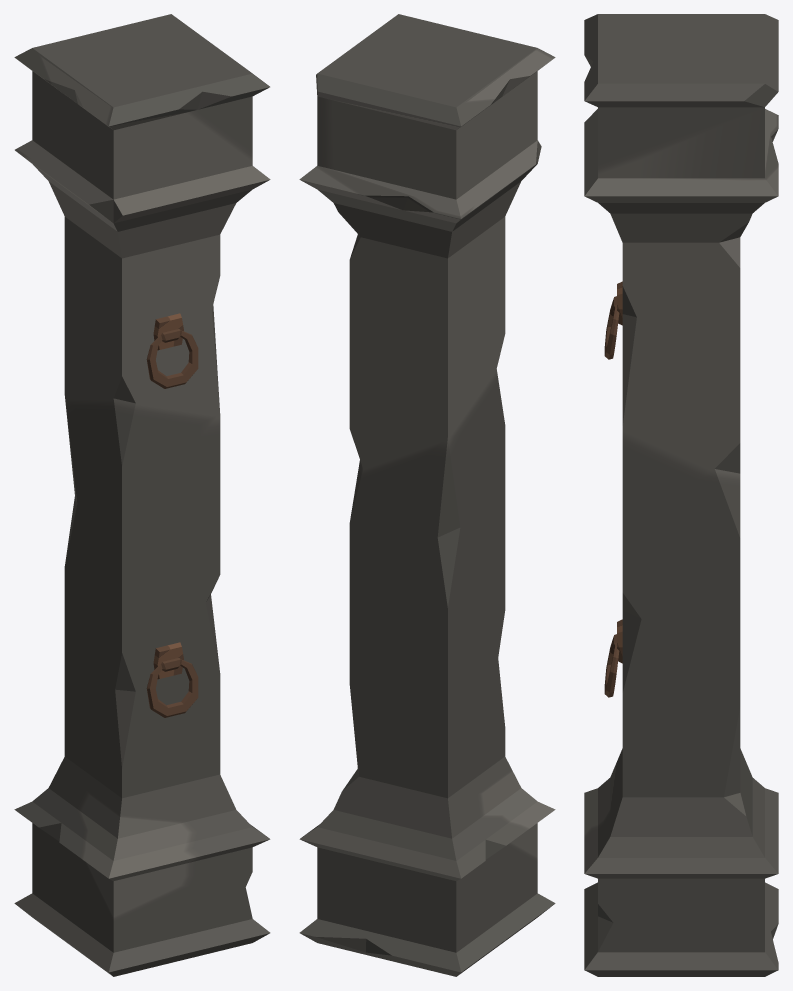
The model's file is SM_Bld_Prison_Pillar_01.fbx.
The picture shows the model from 3 angles, left to right: view 1: azimuth 30°, elevation 25°; view 2: azimuth 150°, elevation 25°; view 3: azimuth 270°, elevation 25°; orthographic projection. The views are drawn at different scales.
Visible parts, largest first — view 1: SM_Bld_Prison_Pillar_01; view 2: SM_Bld_Prison_Pillar_01; view 3: SM_Bld_Prison_Pillar_01.
Boxes of the visible parts, x1,y1,x2,y2 form: SM_Bld_Prison_Pillar_01: [14, 14, 270, 976]; SM_Bld_Prison_Pillar_01: [299, 14, 555, 976]; SM_Bld_Prison_Pillar_01: [584, 14, 778, 976].
Size of the model in its own units: 58.48 by 300 by 59.09.
